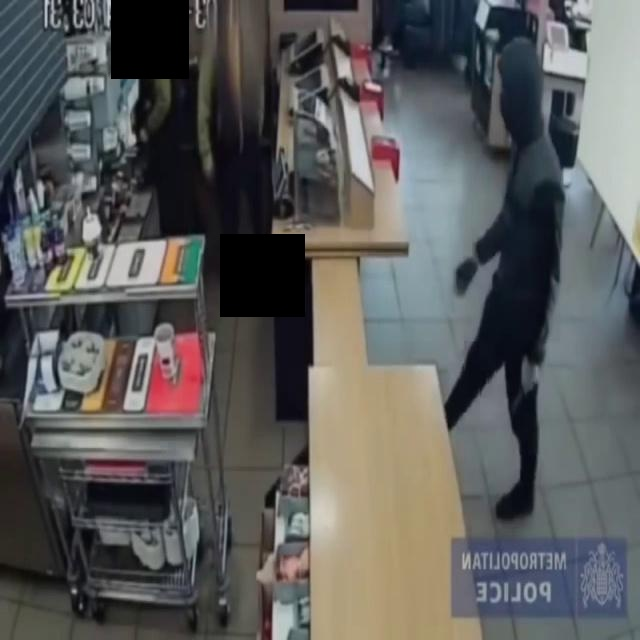gun: (507, 349, 545, 414)
